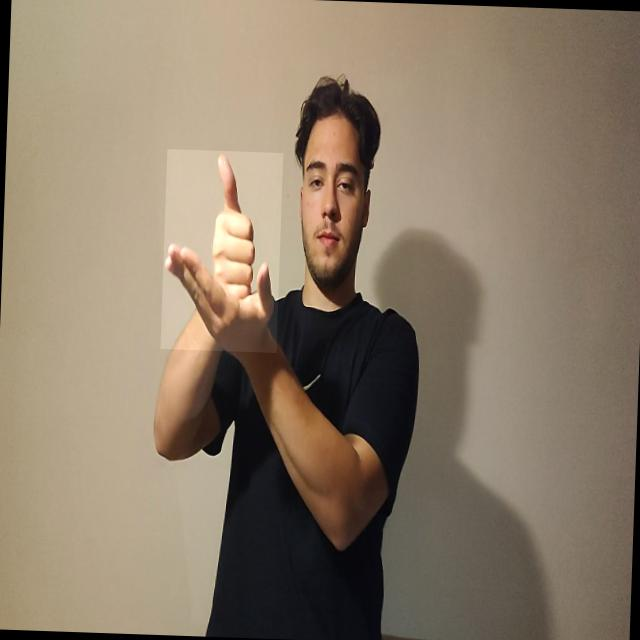help: (160, 148, 283, 352)
